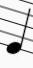E: (5, 1, 30, 57)
